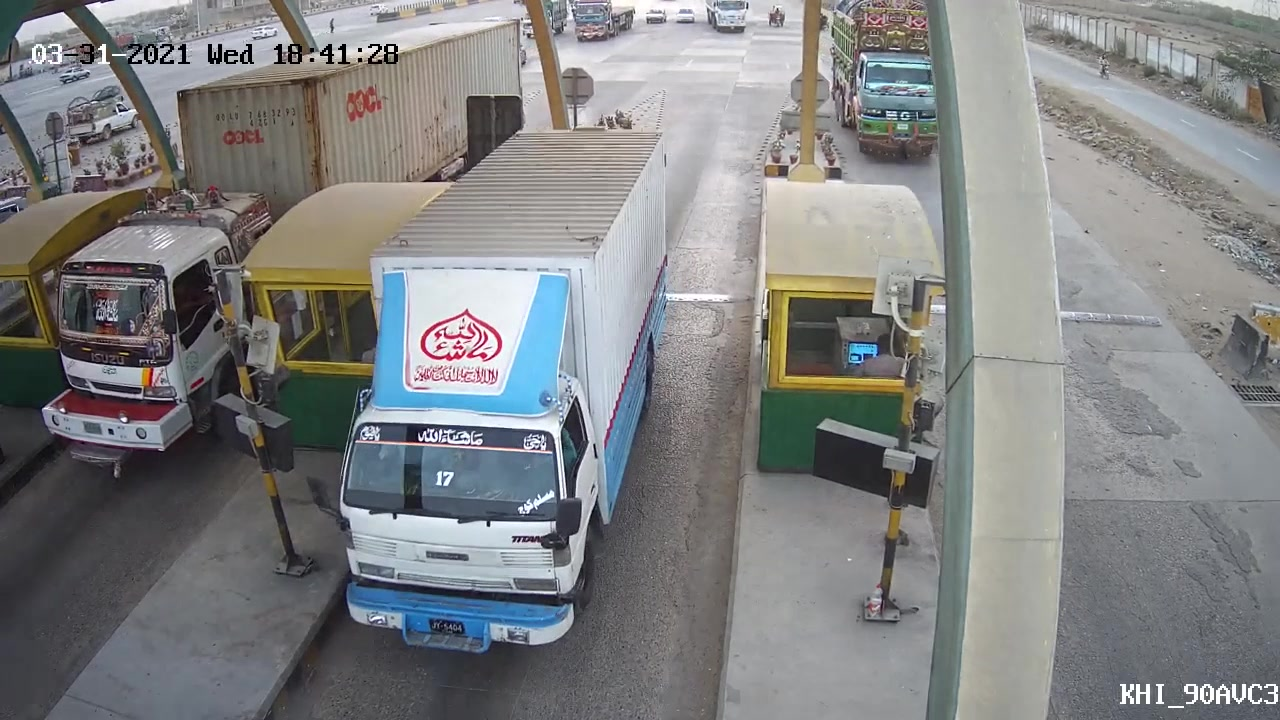F5: (317, 123, 692, 652)
